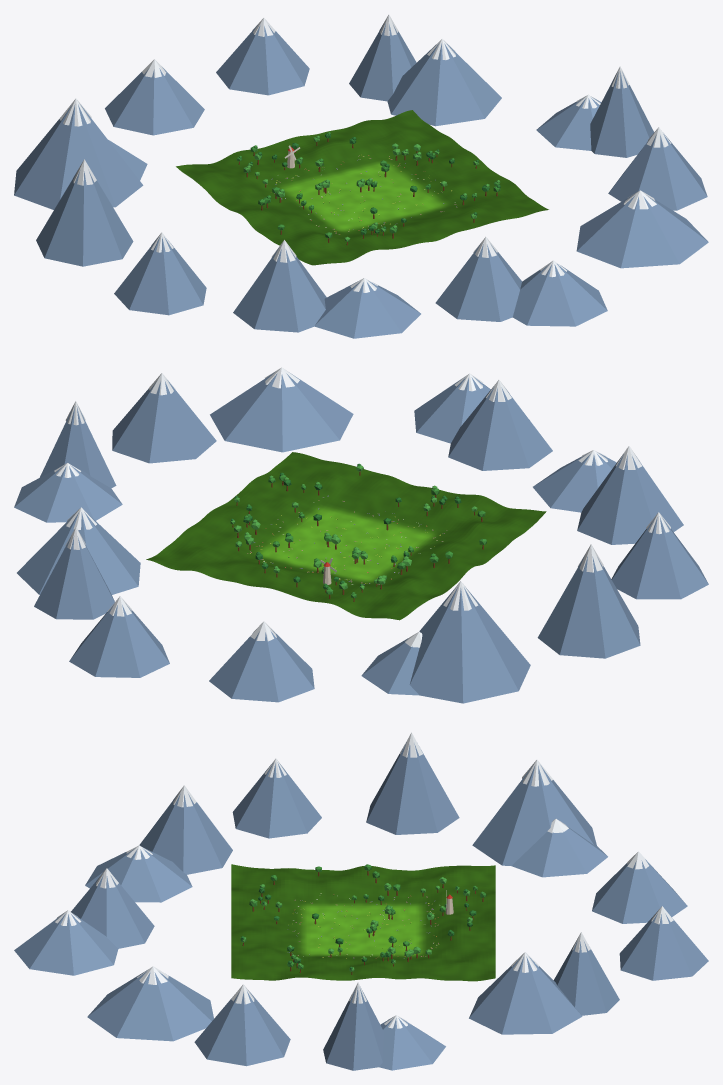
File: moegi.glb
The picture shows the model from 3 angles, top to bottom: view 1: azimuth 30°, elevation 25°; view 2: azimuth 150°, elevation 25°; view 3: azimuth 270°, elevation 25°; orthographic projection. The views are drawn at different scales.
Parts seen in each view (by area): view 1: mountain, terrain, mountainSnow, leaf2, leaf1, leaf3; view 2: mountain, terrain, mountainSnow, leaf2, leaf1, leaf3, trunk; view 3: mountain, terrain, mountainSnow, leaf2, leaf1, leaf3.
Part boxes in pixels (<box>): mountain: <box>14,22,708,338</box>; terrain: <box>176,110,548,265</box>; mountainSnow: <box>59,14,671,292</box>; leaf2: <box>243,135,500,241</box>; leaf1: <box>236,132,500,238</box>; leaf3: <box>250,133,500,234</box>; mountain: <box>14,372,708,703</box>; terrain: <box>146,452,546,620</box>; mountainSnow: <box>54,367,670,647</box>; leaf2: <box>230,465,477,589</box>; leaf1: <box>244,474,486,597</box>; leaf3: <box>231,463,461,589</box>; trunk: <box>232,471,483,601</box>; mountain: <box>14,742,708,1070</box>; terrain: <box>231,864,495,981</box>; mountainSnow: <box>55,732,673,1028</box>; leaf2: <box>240,877,472,971</box>; leaf1: <box>249,864,486,969</box>; leaf3: <box>241,886,476,969</box>.
Size of the model in its own units: 255 by 36.13 by 272.
